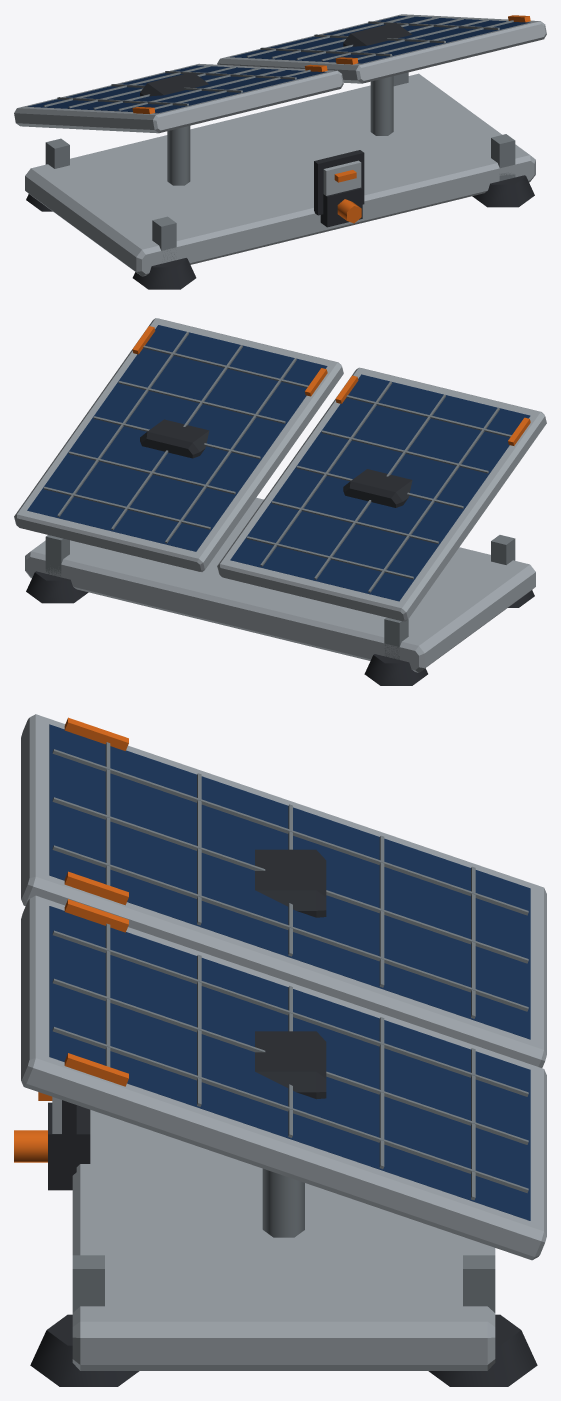
The model's file is solar_array.glb.
The picture shows the model from 3 angles, top to bottom: view 1: azimuth 30°, elevation 25°; view 2: azimuth 150°, elevation 25°; view 3: azimuth 270°, elevation 25°; orthographic projection. The views are drawn at different scales.
Visible parts, largest first — view 1: static_body_mesh.006, panel_left_mesh, panel_right_mesh, service_panel_mesh.006; view 2: panel_left_mesh, panel_right_mesh, static_body_mesh.006; view 3: panel_right_mesh, static_body_mesh.006, panel_left_mesh, service_panel_mesh.006.
Part boxes in pixels (left/top/right/bottom): static_body_mesh.006: left=25, top=22, right=535, bottom=289; panel_left_mesh: left=14, top=63, right=343, bottom=133; panel_right_mesh: left=217, top=14, right=546, bottom=83; service_panel_mesh.006: left=314, top=150, right=364, bottom=215; panel_left_mesh: left=217, top=367, right=546, bottom=621; panel_right_mesh: left=14, top=318, right=343, bottom=571; static_body_mesh.006: left=25, top=419, right=535, bottom=685; panel_right_mesh: left=21, top=895, right=546, bottom=1260; static_body_mesh.006: left=14, top=849, right=537, bottom=1386; panel_left_mesh: left=21, top=714, right=546, bottom=1067; service_panel_mesh.006: left=38, top=1092, right=76, bottom=1175.
Size of the model in its own units: 2.6 by 1.11 by 1.64.
